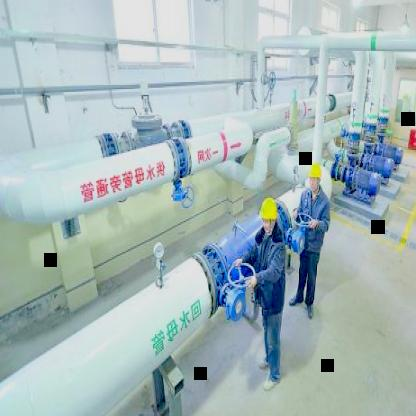helmet: (260, 194, 279, 240), (306, 160, 323, 197)
